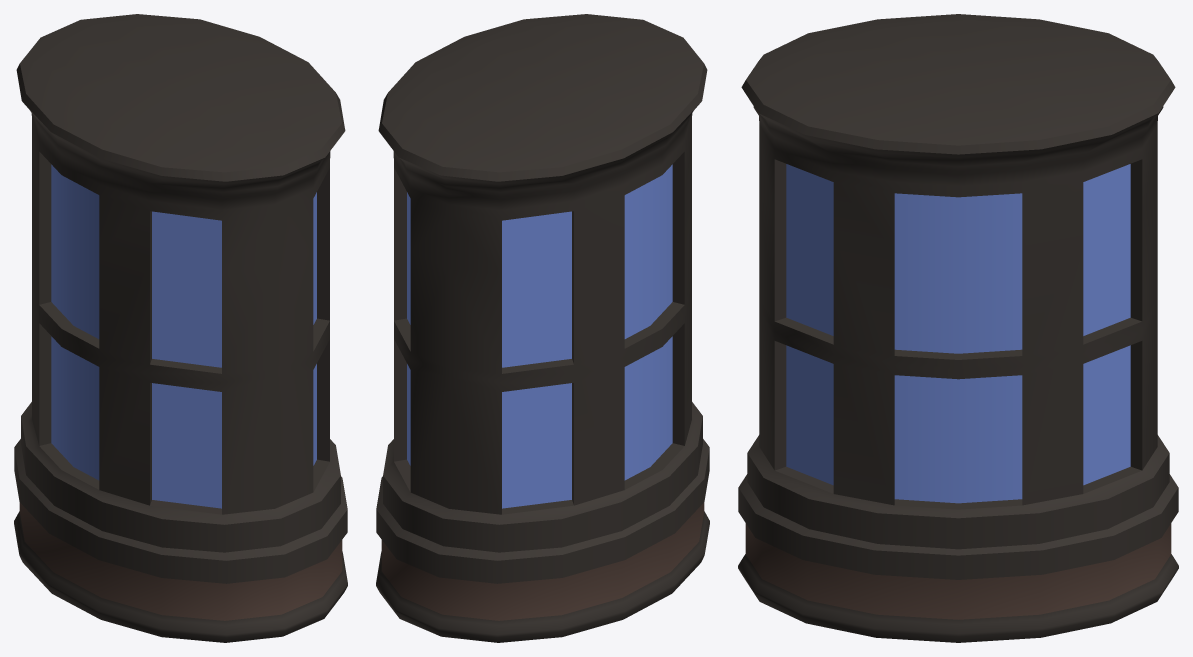
File: OvalDisplayCase.fbx
3 renders of one model, left to right at view 1: azimuth 30°, elevation 25°; view 2: azimuth 150°, elevation 25°; view 3: azimuth 270°, elevation 25°, orthographic. The views are drawn at different scales.
Parts seen in each view (by area): view 1: Cylinder.003; view 2: Cylinder.003; view 3: Cylinder.003.
Boxes of the visible parts, box(x1,y1,x2,y2) form: Cylinder.003: box(14, 14, 347, 642); Cylinder.003: box(376, 14, 709, 642); Cylinder.003: box(738, 14, 1178, 642).
Bounding box in the file's own units: 57.44 × 99.41 × 78.4.
